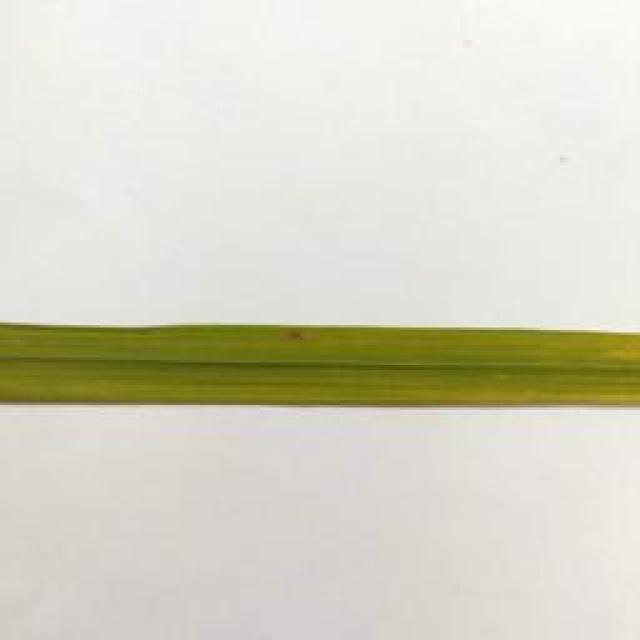Brown_Spot: (263, 321, 324, 345)
